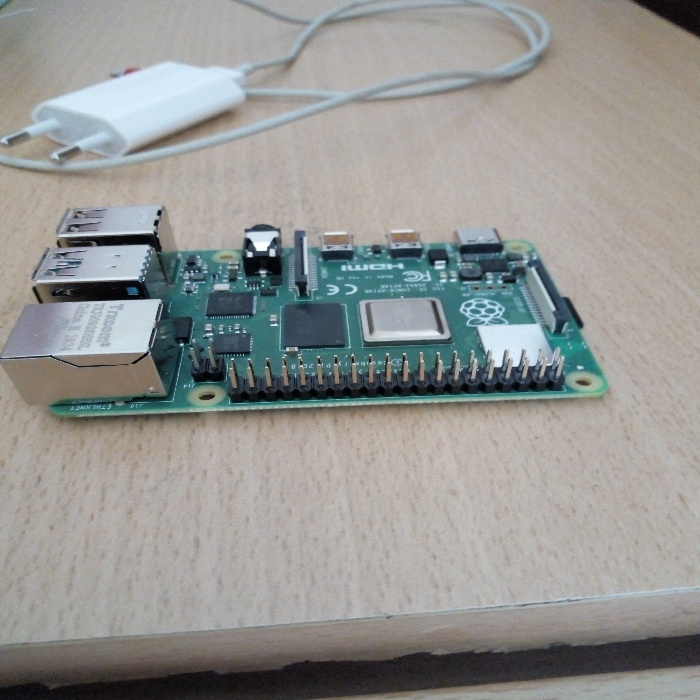raspberry: (5, 196, 596, 438)
